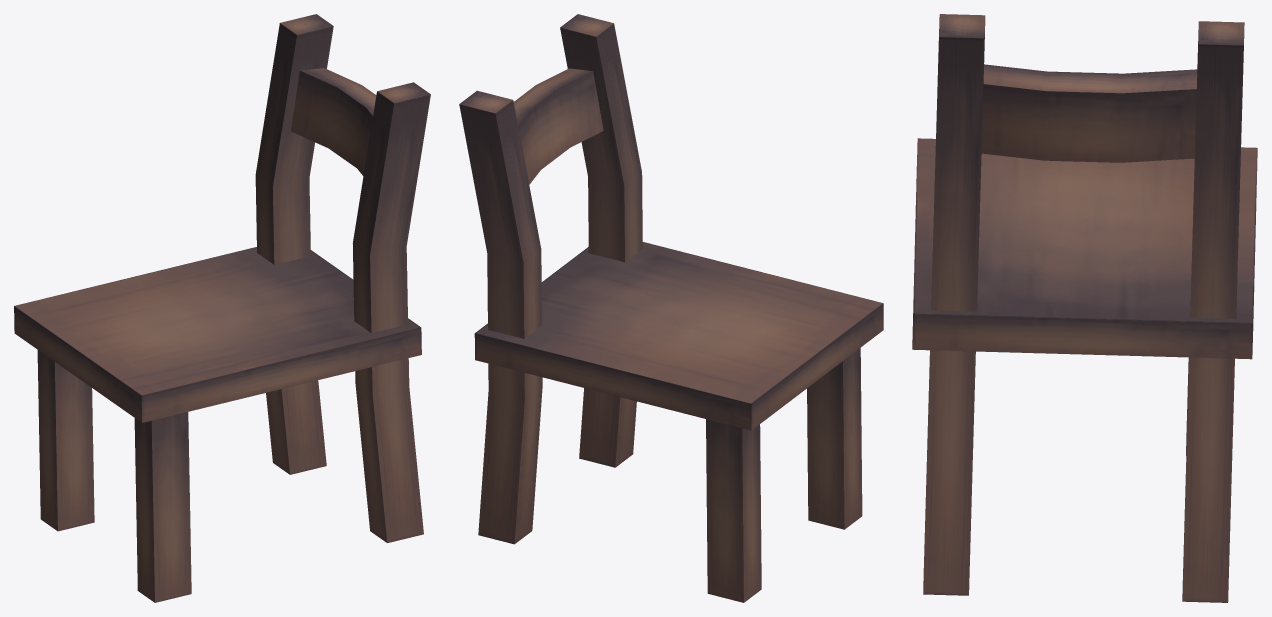
File: chair_funeral.obj
3 renders of one model, left to right at view 1: azimuth 30°, elevation 25°; view 2: azimuth 150°, elevation 25°; view 3: azimuth 270°, elevation 25°, orthographic. The views are drawn at different scales.
Visible parts, largest first — view 1: Box011_23_-_Default_0_Box011_23_-_Default_0_23_-_Default; view 2: Box011_23_-_Default_0_Box011_23_-_Default_0_23_-_Default; view 3: Box011_23_-_Default_0_Box011_23_-_Default_0_23_-_Default.
Part boxes in pixels (<box>): Box011_23_-_Default_0_Box011_23_-_Default_0_23_-_Default: <box>14,14,430,602</box>; Box011_23_-_Default_0_Box011_23_-_Default_0_23_-_Default: <box>459,14,883,602</box>; Box011_23_-_Default_0_Box011_23_-_Default_0_23_-_Default: <box>912,14,1257,602</box>.
Size of the model in its own units: 0.842 by 1.18 by 0.6425.
